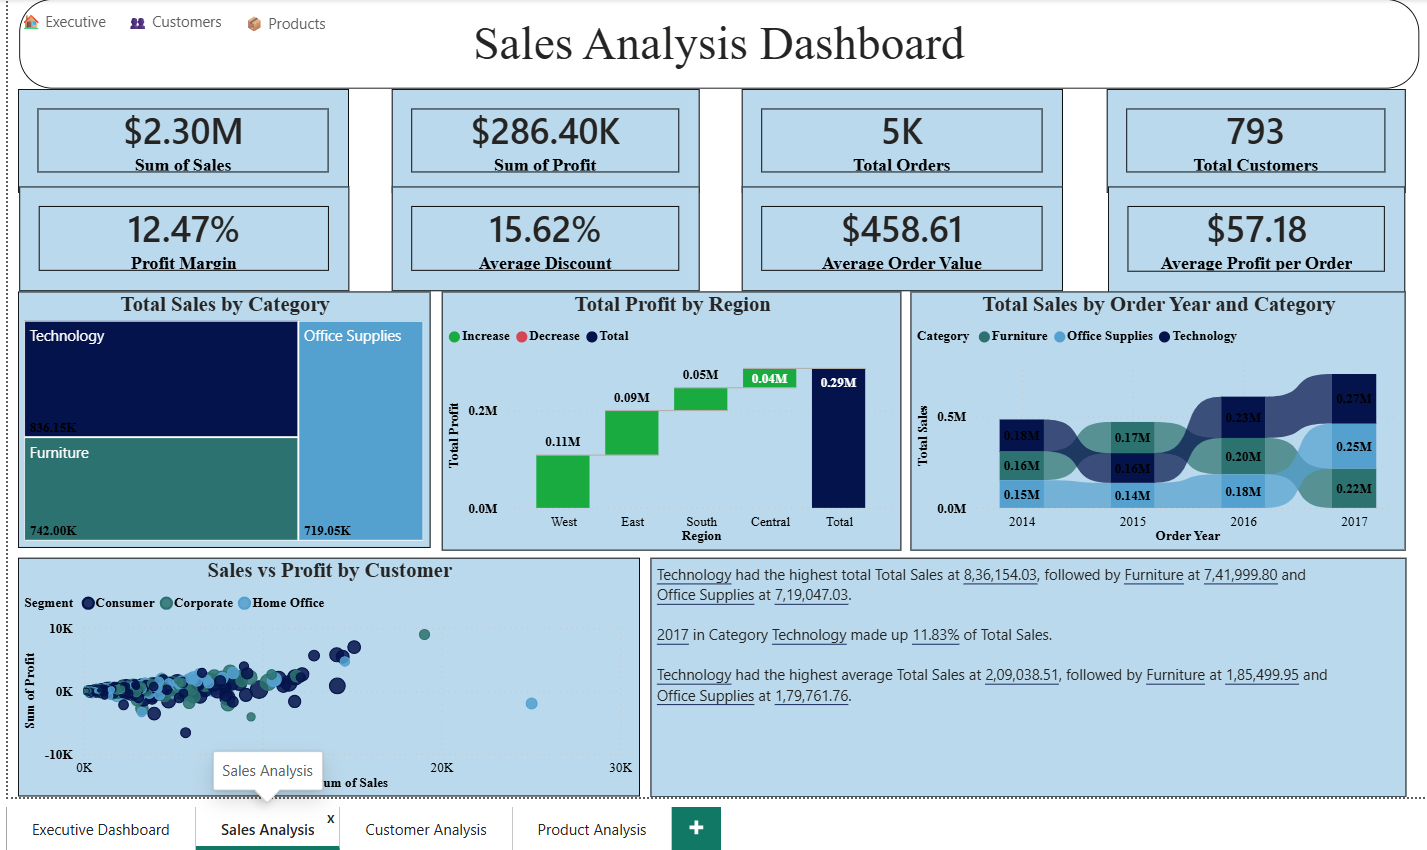

This screenshot's page, from the dashboard's own definition file:
{"tool":"powerbi","page":{"name":"Sales Analysis","canvas":[1280,720],"ordinal":1},"visuals":[{"type":"cardVisual","fields":{"Data":["Sum(processed_superstore.Sales)"]},"box":[9,81.2,298.7,93.6],"z":0},{"type":"cardVisual","fields":{"Data":["Sum(processed_superstore.Profit)"]},"box":[346,81.2,277.3,93.6],"z":1000},{"type":"cardVisual","fields":{"Data":["processed_superstore.Average Discount"]},"box":[346,169.1,277.3,94.7],"z":2000},{"type":"cardVisual","fields":{"Data":["processed_superstore.Total Orders"]},"box":[661.6,81.2,289.7,93.6],"z":3000},{"type":"cardVisual","fields":{"Data":["processed_superstore.Total Customers"]},"box":[990.7,81.2,269.4,93.6],"z":4000},{"type":"cardVisual","fields":{"Data":["processed_superstore.Average Order Value"]},"box":[661.6,169.1,289.7,94.7],"z":5000},{"type":"cardVisual","fields":{"Data":["processed_superstore.Average Profit per Order"]},"box":[991.9,169.1,268.3,95.8],"z":6000},{"type":"cardVisual","fields":{"Data":["processed_superstore.Profit Margin"]},"box":[10.1,169.1,297.6,94.7],"z":7000},{"type":"treemap","fields":{"Group":["processed_superstore.Category"],"Values":["processed_superstore.Total Sales"]},"box":[9,263.7,371.9,231.1],"z":8000},{"type":"waterfallChart","fields":{"Category":["processed_superstore.Region"],"Y":["processed_superstore.Total Profit"]},"box":[391.1,263.7,414.8,233.3],"z":9000},{"type":"ribbonChart","fields":{"Category":["processed_superstore.Order Year"],"Series":["processed_superstore.Category"],"Y":["processed_superstore.Total Sales"]},"box":[813.8,263.7,446.3,233.3],"z":10000},{"type":"textbox","box":[579.1,503.5,681.4,216.3],"z":11000},{"type":"scatterChart","title":"Sales vs Profit by Customer","fields":{"X":["Sum(processed_superstore.Sales)"],"Y":["Sum(processed_superstore.Profit)"],"Series":["processed_superstore.Segment"],"Size":["Sum(processed_superstore.Quantity)"],"Category":["processed_superstore.Customer Name"]},"box":[9.3,503.5,560.5,215.1],"z":12000},{"type":"actionButton","box":[0,0,100,40],"z":14000},{"type":"actionButton","box":[100,0,100,39.7],"z":15000},{"type":"actionButton","box":[200,1.5,100,39.7],"z":16000},{"type":"textbox","box":[10.1,0,1262.4,81.2],"z":16001}]}

Visuals, with their boxes in screenshot pixels (x1, y1, x2, y2):
cardVisual - Sum(processed_superstore.Sales): <region>21, 89, 349, 192</region>
cardVisual - Sum(processed_superstore.Profit): <region>392, 89, 696, 192</region>
cardVisual - processed_superstore.Average Discount: <region>392, 186, 696, 290</region>
cardVisual - processed_superstore.Total Orders: <region>739, 89, 1057, 192</region>
cardVisual - processed_superstore.Total Customers: <region>1100, 89, 1397, 192</region>
cardVisual - processed_superstore.Average Order Value: <region>739, 186, 1057, 290</region>
cardVisual - processed_superstore.Average Profit per Order: <region>1102, 186, 1397, 291</region>
cardVisual - processed_superstore.Profit Margin: <region>22, 186, 349, 290</region>
treemap - processed_superstore.Category x processed_superstore.Total Sales: <region>21, 290, 430, 544</region>
waterfallChart - processed_superstore.Region x processed_superstore.Total Profit: <region>441, 290, 897, 546</region>
ribbonChart - processed_superstore.Order Year x processed_superstore.Category: <region>906, 290, 1397, 546</region>
textbox: <region>648, 554, 1397, 791</region>
"Sales vs Profit by Customer" scatterChart: <region>21, 554, 638, 790</region>
actionButton: <region>11, 0, 121, 44</region>
actionButton: <region>121, 0, 231, 44</region>
actionButton: <region>231, 2, 341, 45</region>
textbox: <region>22, 0, 1410, 89</region>
